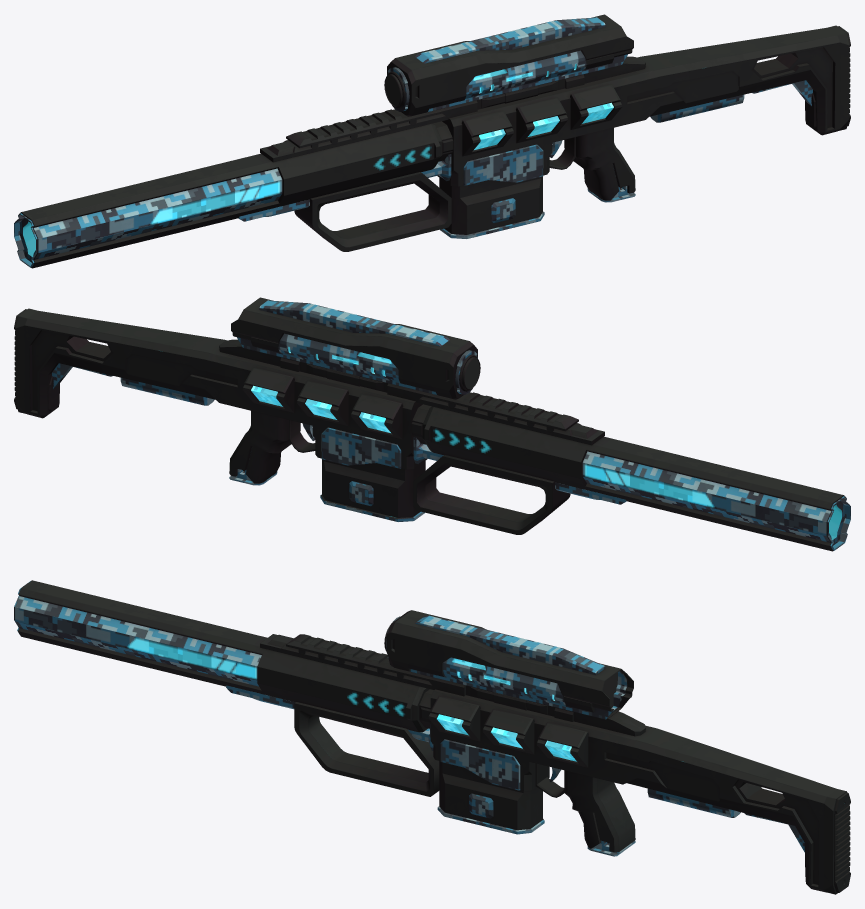
The model's file is sniper1.fbx.
3 views of the same model, one above another, from view 1: azimuth 30°, elevation 25°; view 2: azimuth 150°, elevation 25°; view 3: azimuth 330°, elevation 25° (orthographic).
Parts seen in each view (by area): view 1: Sniper1, Sniper1_Magazine; view 2: Sniper1, Sniper1_Magazine; view 3: Sniper1, Sniper1_Magazine.
Boxes of the visible parts, x1=… form: Sniper1: x1=14, y1=14, x2=850, y2=268; Sniper1_Magazine: x1=439, y1=176, x2=544, y2=238; Sniper1: x1=14, y1=297, x2=850, y2=551; Sniper1_Magazine: x1=320, y1=459, x2=425, y2=521; Sniper1: x1=14, y1=580, x2=850, y2=894; Sniper1_Magazine: x1=437, y1=761, x2=544, y2=834.
Bounding box in the file's own units: 953 × 203 × 89.85.
